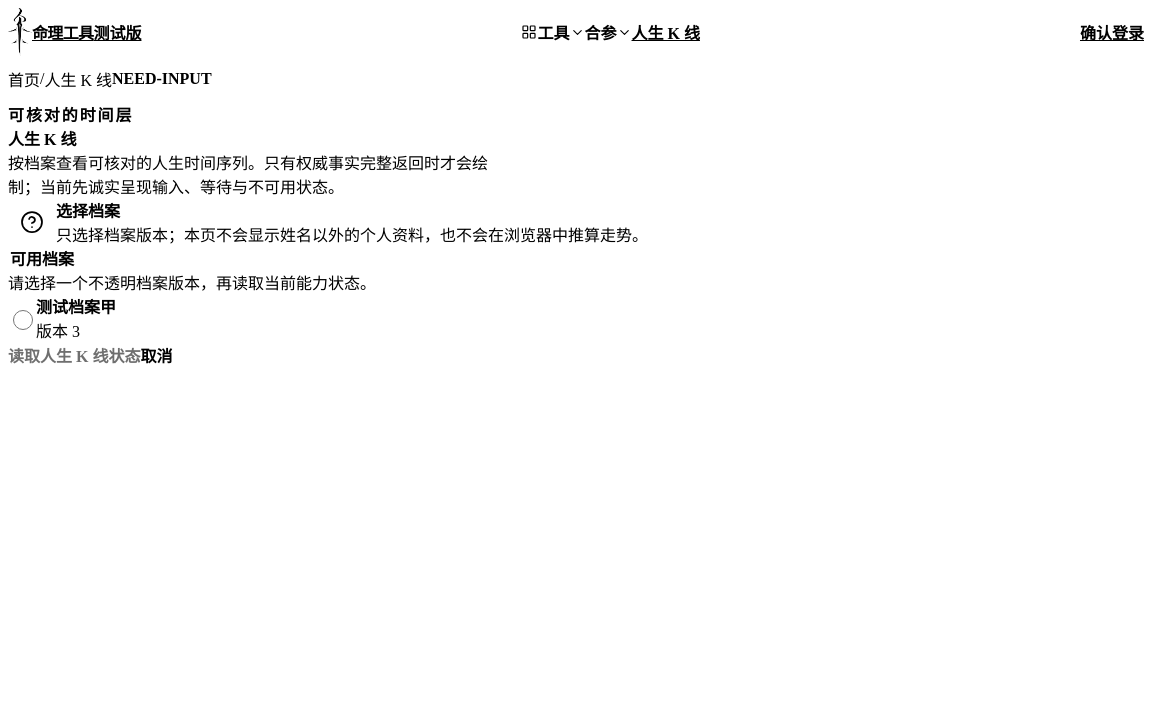
Test case: /life-kline honest non-ready states › maps a real saved profile response and resolves submission to honest unsupported
The width and height of the screenshot is (1152, 710).
Expected: the text "版本 3" is shown, [36, 323, 80, 340]
Click the radio button labelled "测试档案甲 版本 3": (23, 320) [13, 310, 33, 330]
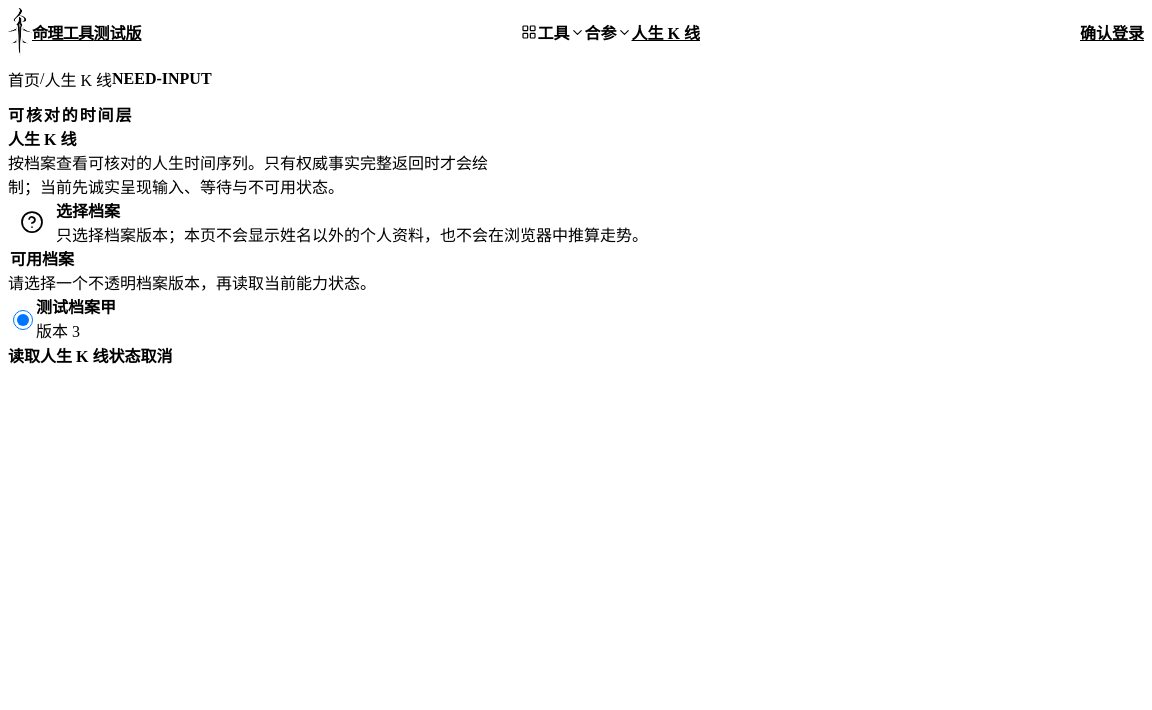
Click the button "读取人生 K 线状态": (74, 355) [8, 342, 140, 368]
(page scrolled)
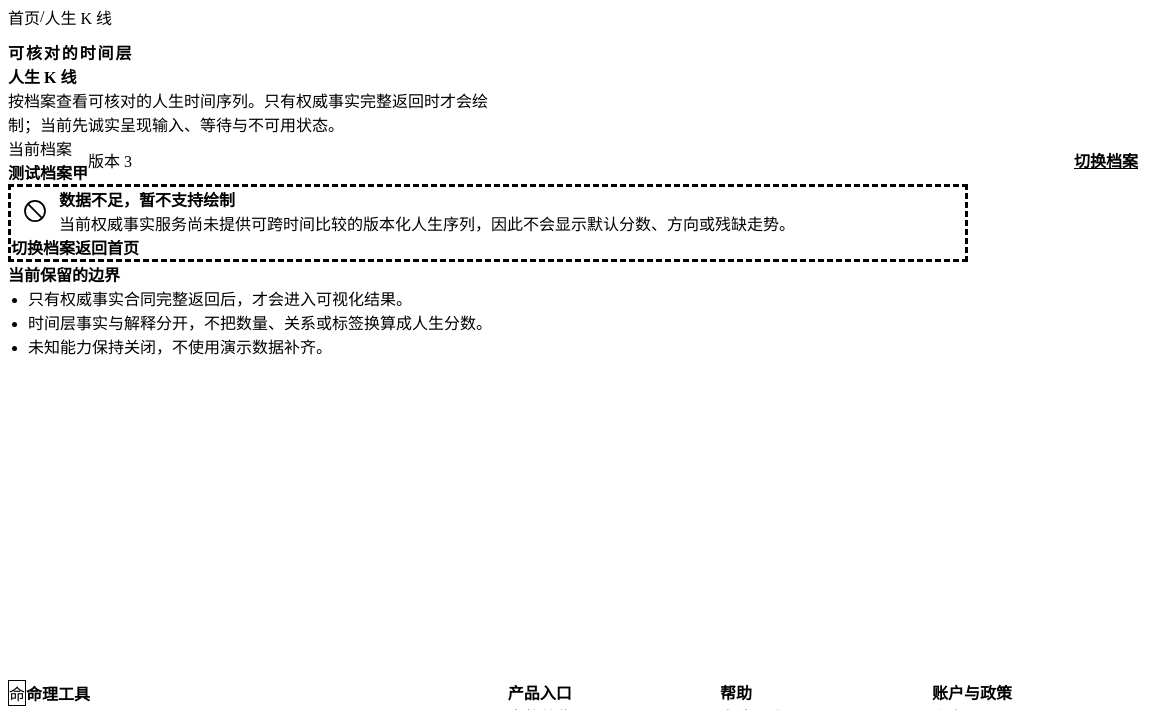
Result: the heading "数据不足，暂不支持绘制" is shown at [59, 192, 235, 209]
Result: the number of buttons "切换档案" is 2 at [1068, 147, 1144, 173]; [11, 235, 75, 259]
